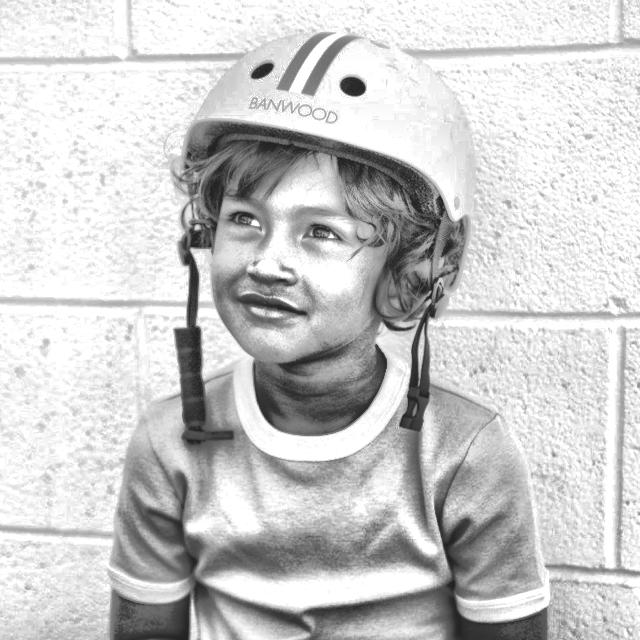Helmet: (174, 28, 479, 441)
